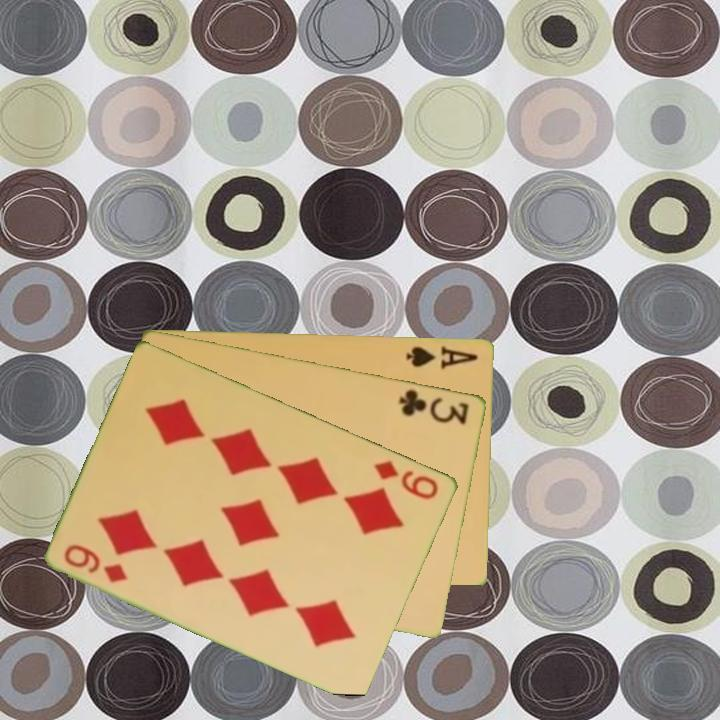3c: (395, 385, 472, 427)
9d: (371, 456, 442, 503), (61, 540, 132, 586)
As: (403, 342, 481, 372)
